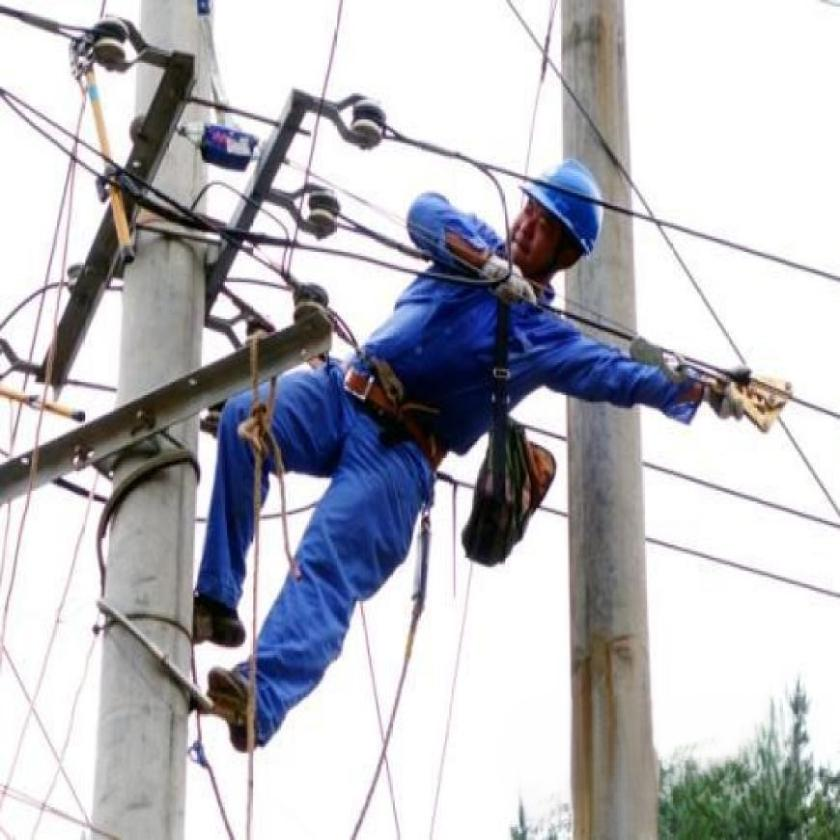Con_casco: (506, 155, 609, 292)
